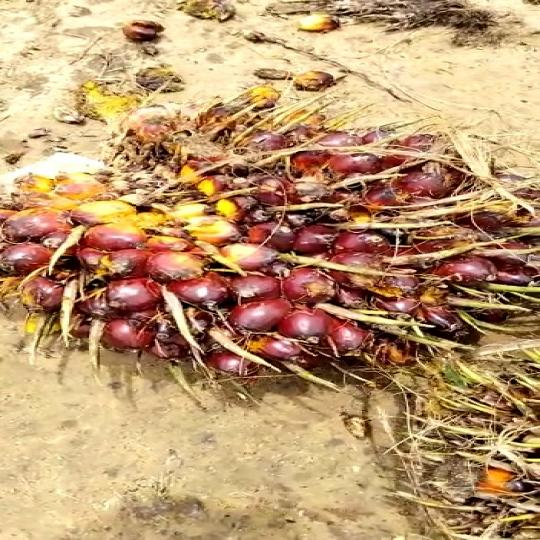masak: (0, 101, 540, 390)
